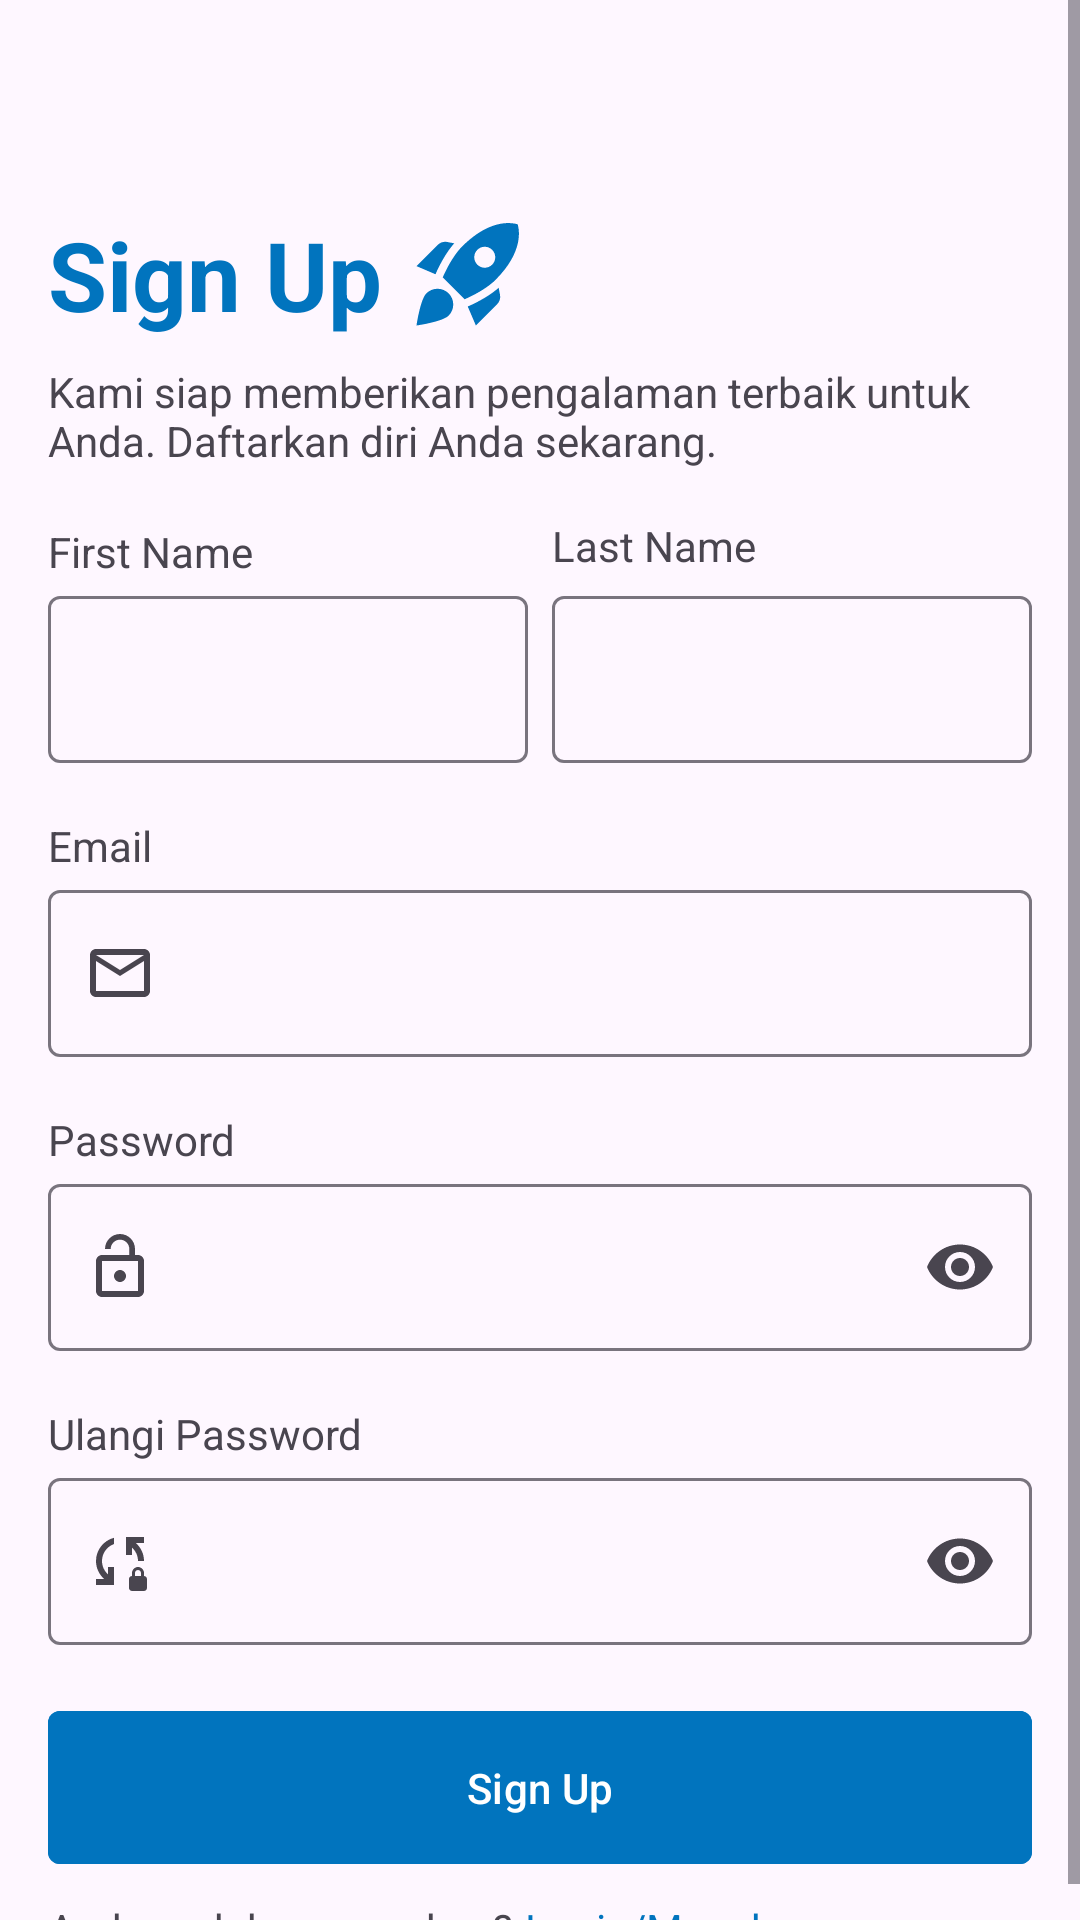

Where icons sit on this 1080×1920 app screen, as [x1=x1, y1=y1, x2=x2, y2=y2]:
rocket: [x1=416, y1=223, x2=519, y2=326]
